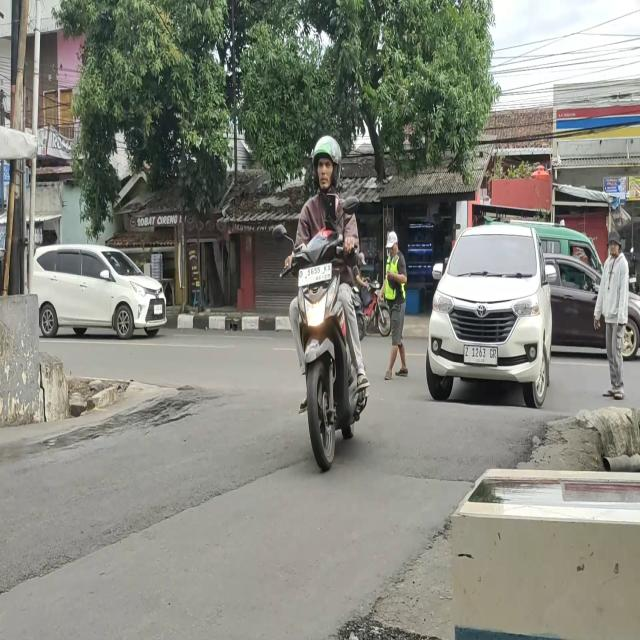helmet: (313, 137, 342, 197)
